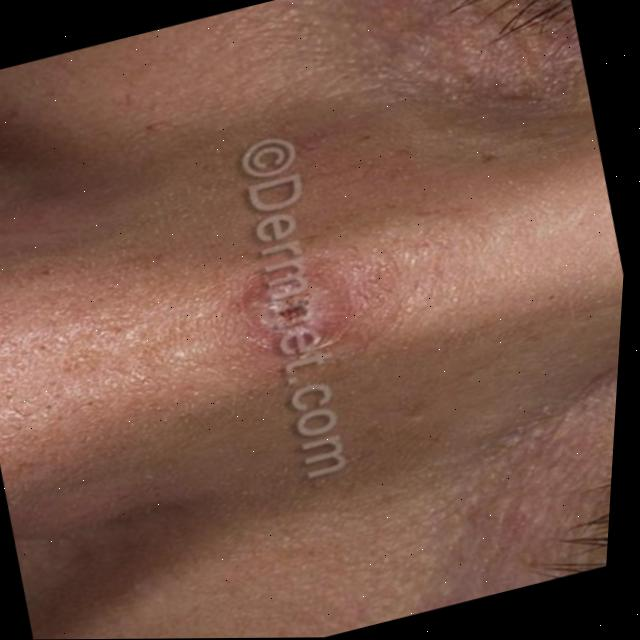Eczema: (244, 267, 392, 361)
